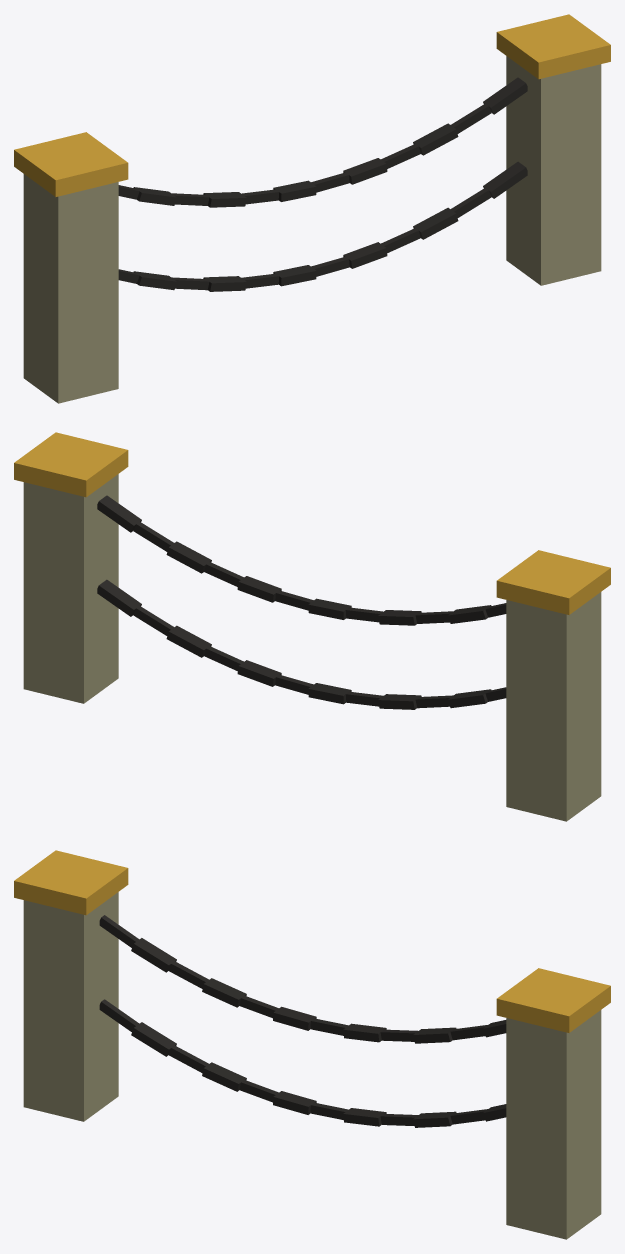
File: jt_chain_rail.glb
3 views of the same model, one above another, from view 1: azimuth 30°, elevation 25°; view 2: azimuth 150°, elevation 25°; view 3: azimuth 330°, elevation 25° (orthographic).
Visible parts, largest first — view 1: jt_chain_rail; view 2: jt_chain_rail; view 3: jt_chain_rail.
Boxes of the visible parts, x1,y1,x2,y2 form: jt_chain_rail: (14,14,610,403); jt_chain_rail: (14,432,610,821); jt_chain_rail: (14,850,610,1239).
Bounding box in the file's own units: 2.76 × 1.08 × 0.36.
